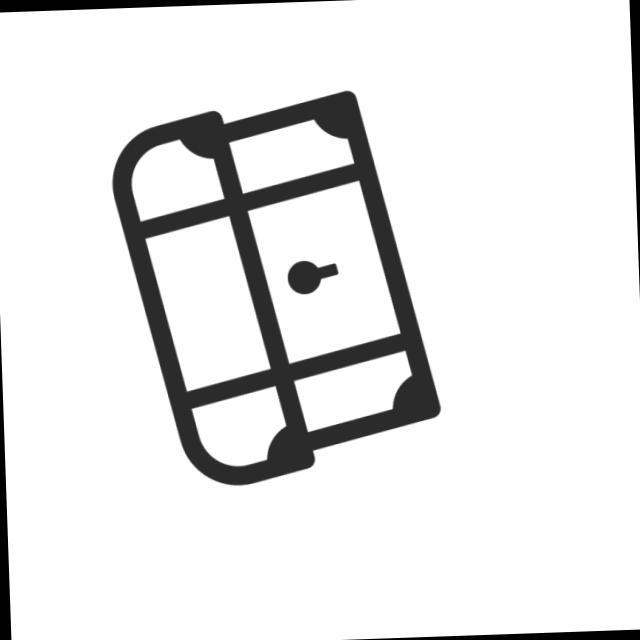treasure_box: (108, 81, 452, 496)
